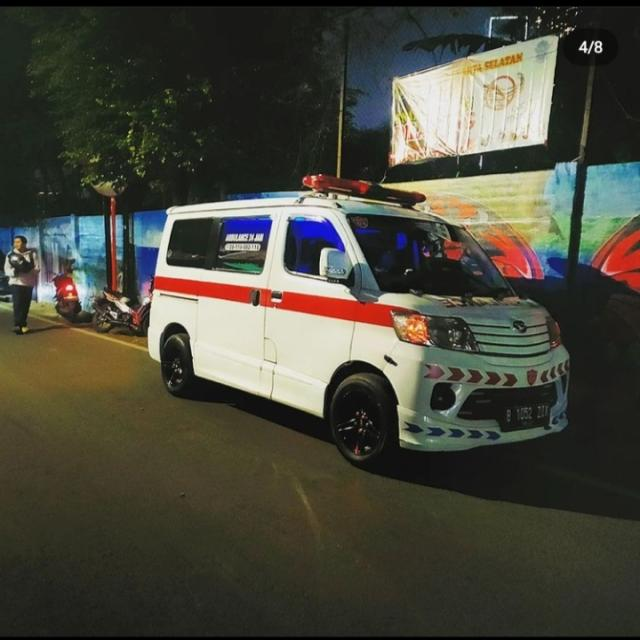emergency-vehicle: (149, 171, 575, 488)
